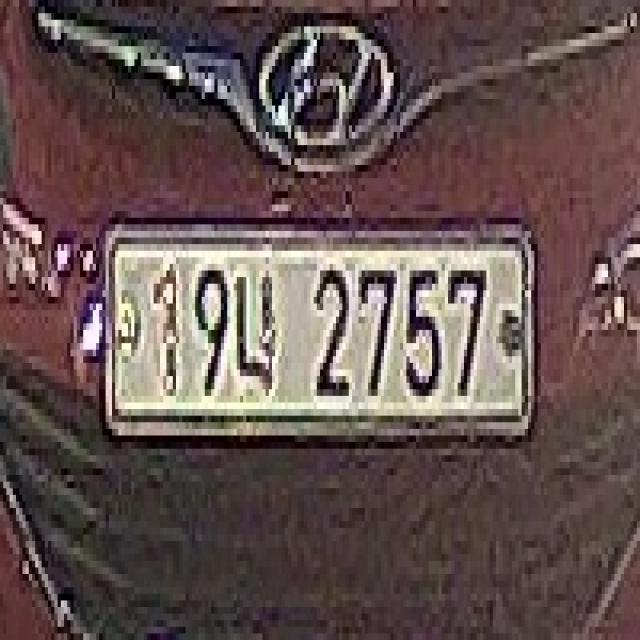1: (150, 257, 182, 409)
2: (307, 244, 355, 416)
5: (400, 258, 448, 402)
7: (444, 251, 490, 409), (355, 251, 397, 409)
9: (189, 258, 230, 402)
license_plate: (96, 198, 541, 455)
na: (230, 264, 278, 409)
